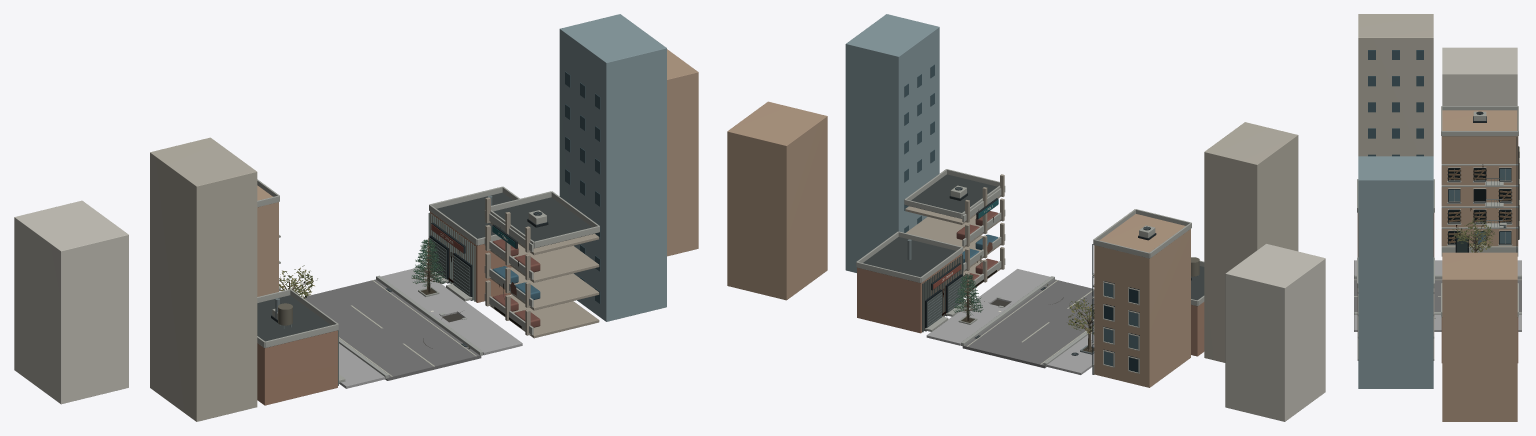
File: city_hd_15.glb
3 views of the same model, side by side, from view 1: azimuth 30°, elevation 25°; view 2: azimuth 150°, elevation 25°; view 3: azimuth 270°, elevation 25° (orthographic). The views are drawn at different scales.
Parts seen in each view (by area): view 1: Background city building, Background city building.002, Background city building.001, CITY_PBR_asphalt, CITY_realwall_b29982, CITY_realwall_a49c8e, CITY_realwall_a5826d, CITY_trim, CITY_roof, CITY_PBR_pavement, CITY_realwall_899da2, CITY_warehouse_metal (+4 smaller); view 2: CITY_realwall_b29982, Background city building.002, Background city building.001, Background city building, CITY_PBR_asphalt, CITY_trim, CITY_realwall_a5826d, CITY_roof, CITY_PBR_pavement, CITY_realwall_a49c8e, CITY_curb, CITY_realwall_899da2 (+6 smaller); view 3: CITY_realwall_b29982, Background city building.002, Background city building, Background city building.001, CITY_trim, CITY_realwall_899da2, CITY_recess, CITY_wood_panel, CITY_window_void, Tree individual folded leaves, CITY_glass, CITY_frame (+5 smaller).
Part boxes in pixels (x1,y1,x2,y2): Background city building: (150,137,257,421); Background city building.002: (559,14,666,321); Background city building.001: (14,200,128,404); CITY_PBR_asphalt: (303,279,481,380); CITY_realwall_b29982: (257,49,698,296); CITY_realwall_a49c8e: (485,197,599,338); CITY_realwall_a5826d: (257,211,511,405); CITY_trim: (257,179,599,382); CITY_roof: (257,192,596,347); CITY_PBR_pavement: (339,268,522,388); CITY_realwall_899da2: (565,71,600,303); CITY_warehouse_metal: (338,212,475,385); CITY_realwall_b29982: (727,101,1190,387); Background city building.002: (845,14,939,272); Background city building.001: (1225,244,1325,421); Background city building: (1204,122,1298,362); CITY_PBR_asphalt: (962,279,1094,368); CITY_trim: (856,169,1204,374); CITY_realwall_a5826d: (857,253,1204,356); CITY_roof: (863,174,1204,306); CITY_PBR_pavement: (926,269,1094,374); CITY_realwall_a49c8e: (905,174,1004,293); CITY_curb: (961,276,1094,366); CITY_realwall_899da2: (904,64,934,232); CITY_realwall_b29982: (1441,110,1518,421); Background city building.002: (1358,156,1433,388); Background city building: (1358,14,1433,156); Background city building.001: (1442,47,1517,105); CITY_trim: (1357,106,1518,316); CITY_realwall_899da2: (1368,50,1423,156); CITY_recess: (1448,146,1518,252); CITY_wood_panel: (1447,169,1512,243); CITY_window_void: (1448,168,1510,243); Tree individual folded leaves: (1452,218,1494,252); CITY_glass: (1448,168,1510,243); CITY_frame: (1448,146,1519,244).
Size of the model in its own units: 56.65 by 22.26 by 16.
